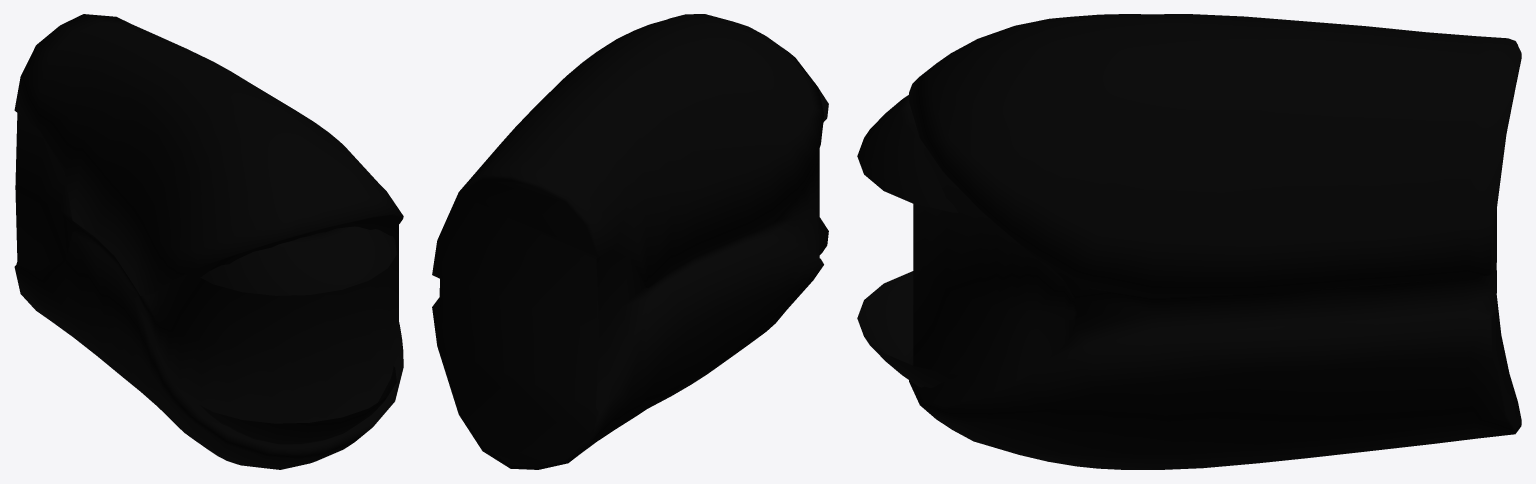
File: HipPitch.obj
3 renders of one model, left to right at view 1: azimuth 30°, elevation 25°; view 2: azimuth 150°, elevation 25°; view 3: azimuth 270°, elevation 25°, orthographic. The views are drawn at different scales.
Bounding box in the file's own units: 1.74 × 2.38 × 3.27.
